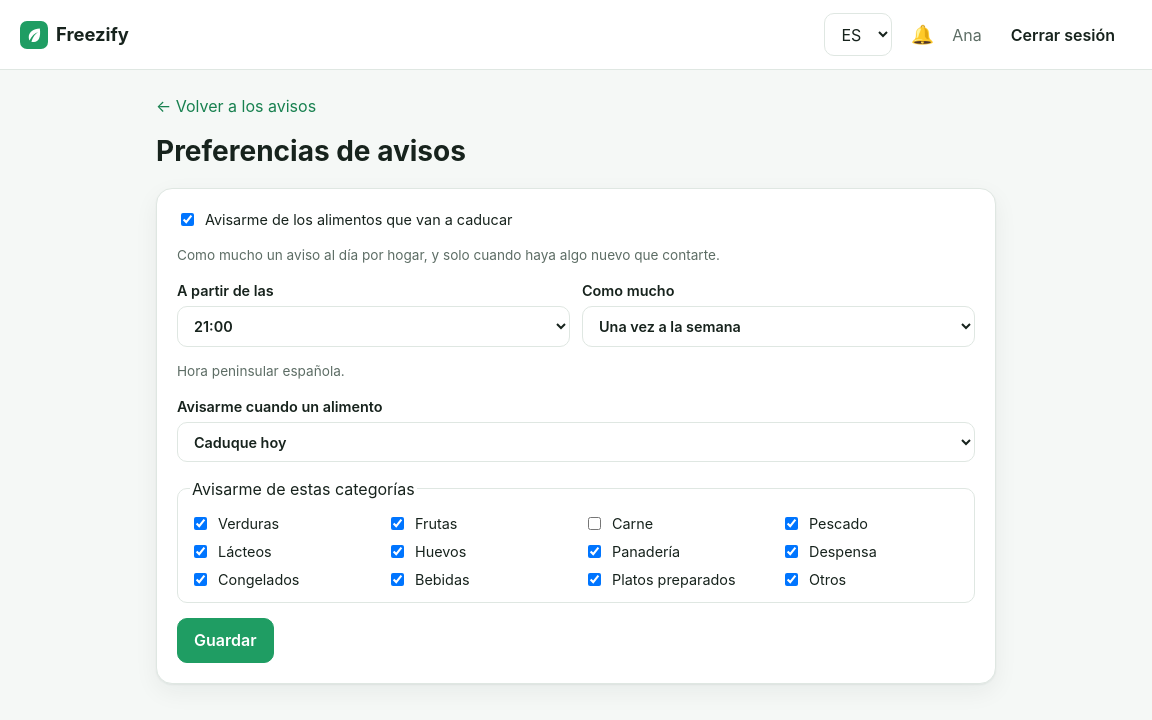
Test: notification preferences › shows what was chosen before and lets the user turn everything off
expect the dropdown labelled "A partir de las" shows "21:00": met, box [177,306,570,347]
expect the dropdown labelled "Como mucho" shows "Una vez a la semana": met, box [582,306,975,347]
Click the checkbox labelled "Avisarme de los alimentos que van a caducar".
click(188, 220)  # box [181,214,194,226]
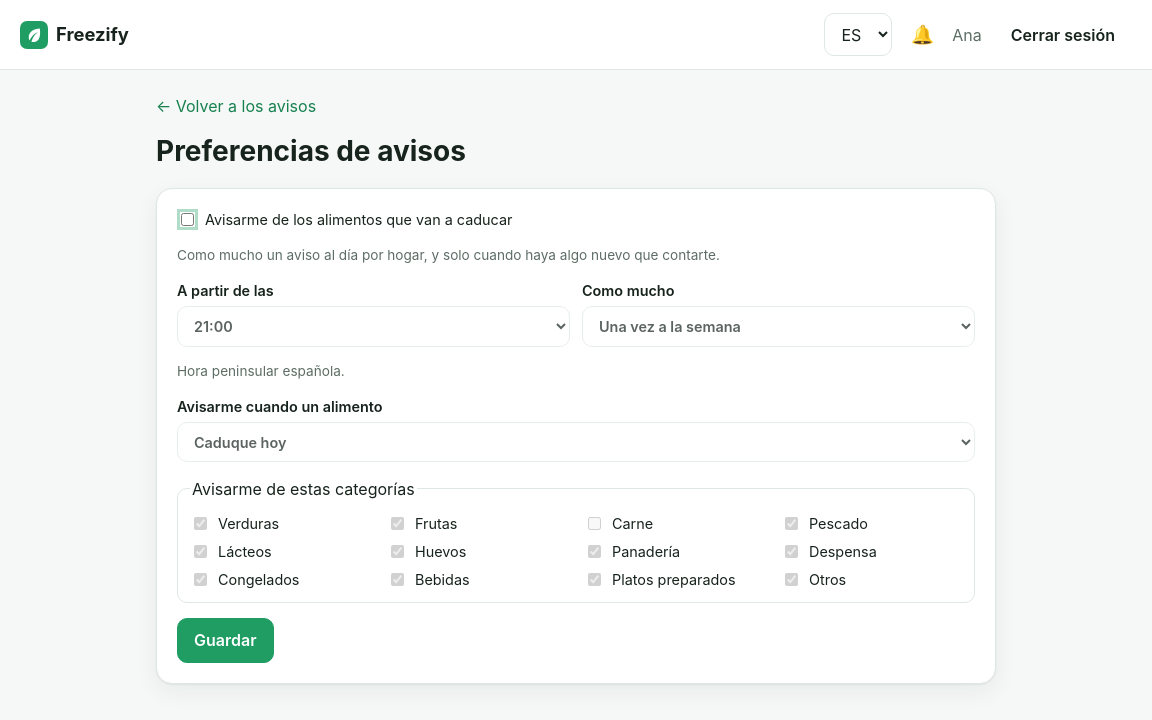
expect the checkbox labelled "Carne" is disabled: met, box [588,517,601,530]
expect the dropdown labelled "A partir de las" is disabled: met, box [177,306,570,347]
Click the button "Guardar".
click(225, 640)  # box [177,618,274,663]
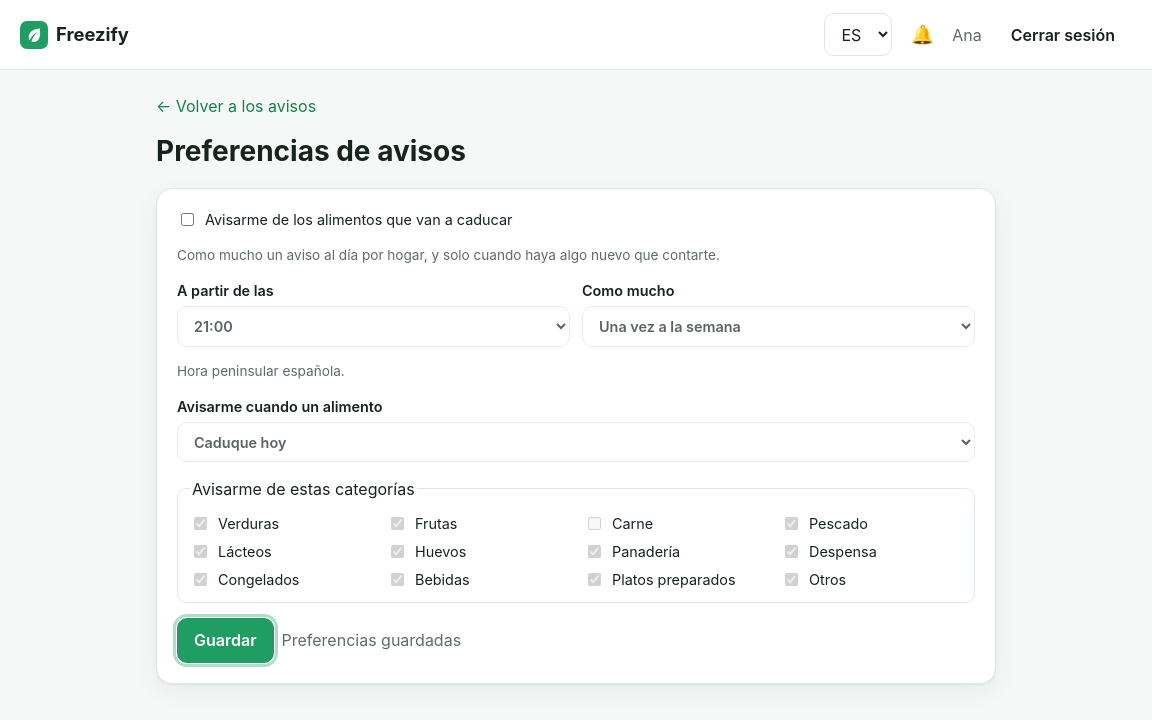
expect the message "Preferencias guardadas" is shown: met, box [282,628,461,652]
